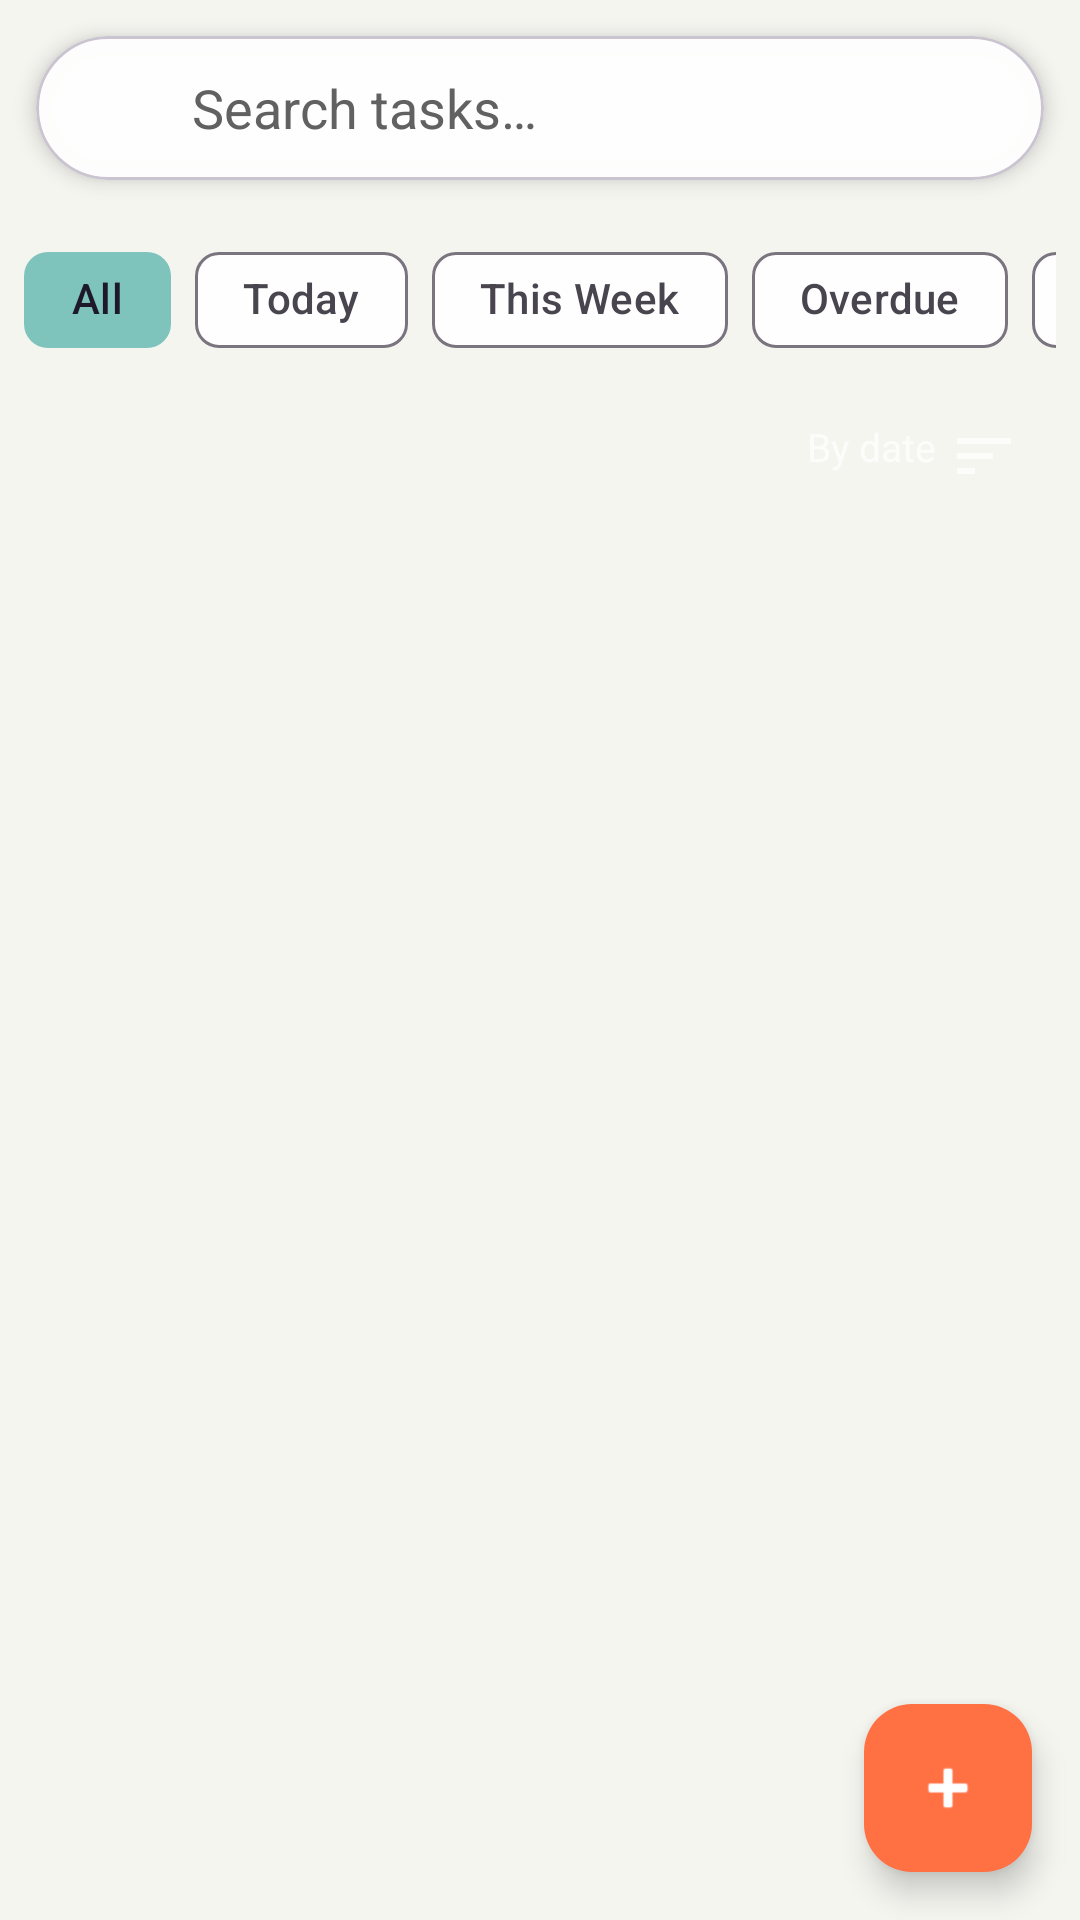

Point at icon controls on the screen. Image size 1080 × 1920, points as (x=x, y=y).
Add Task: (x=948, y=1788)
